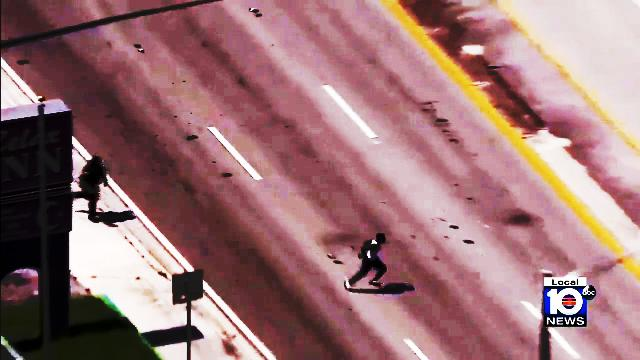berlari: (345, 227, 389, 293), (71, 150, 109, 222)
